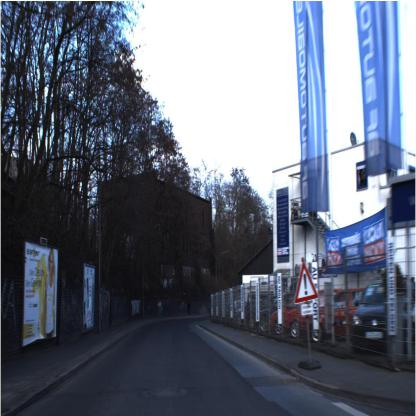danger: (289, 258, 320, 307)
